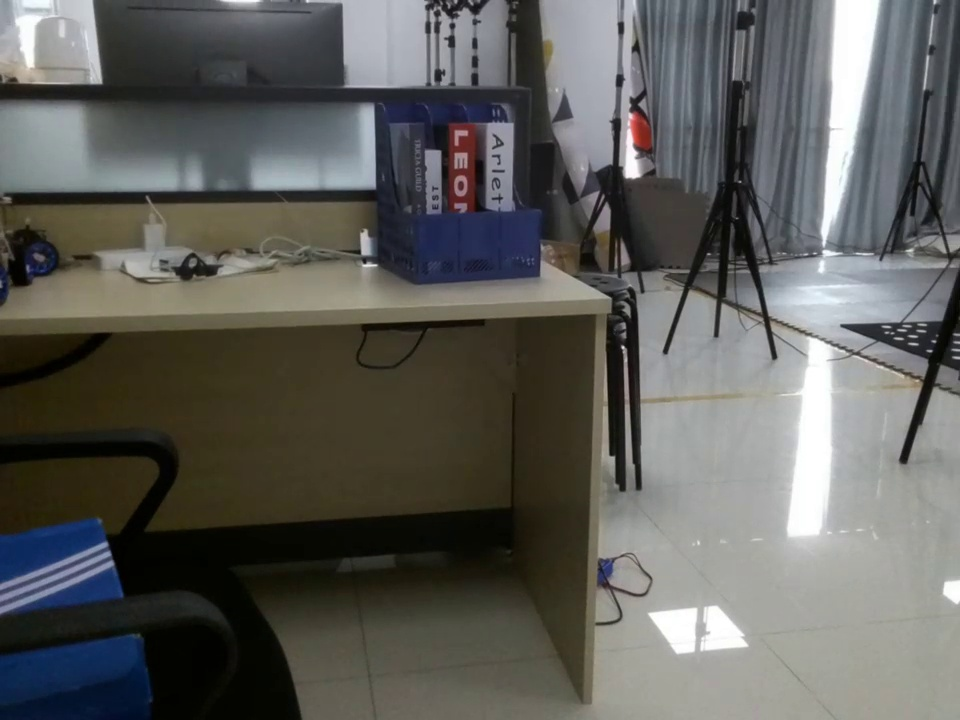files: (370, 100, 544, 287)
